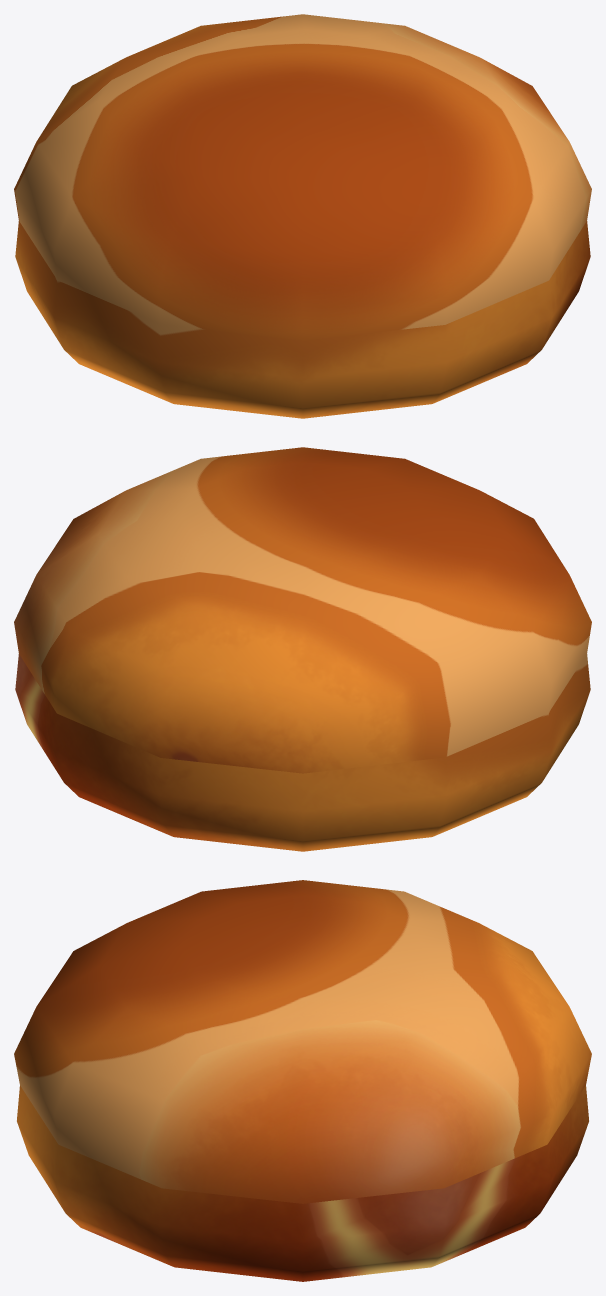
File: Bun_Burger.fbx
The picture shows the model from 3 angles, top to bottom: view 1: azimuth 30°, elevation 25°; view 2: azimuth 150°, elevation 25°; view 3: azimuth 270°, elevation 25°; orthographic projection.
Visible parts, largest first — view 1: Bun_Burger; view 2: Bun_Burger; view 3: Bun_Burger.
Boxes of the visible parts, left/top/right/bottom form: Bun_Burger: left=14, top=14, right=591, bottom=418; Bun_Burger: left=14, top=447, right=591, bottom=851; Bun_Burger: left=14, top=880, right=591, bottom=1281.
Size of the model in its own units: 43.05 by 19.42 by 43.58.
